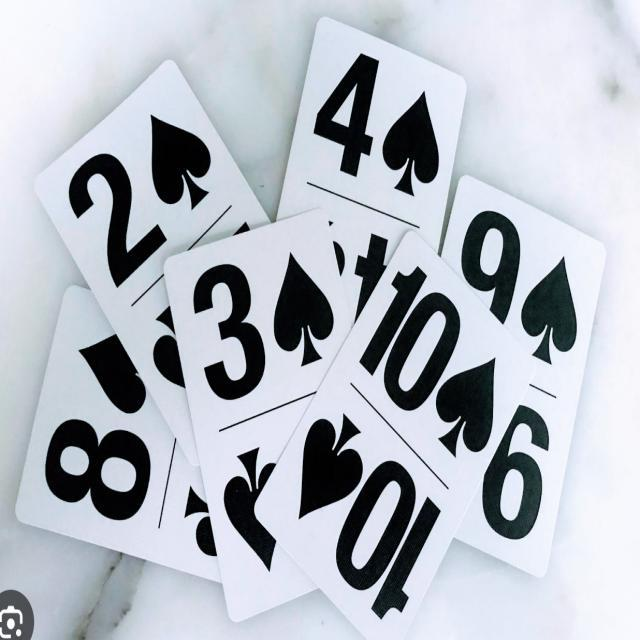Card-10: (253, 231, 534, 640)
Card-2: (32, 60, 269, 465)
Card-3: (164, 214, 350, 621)
Card-4: (276, 16, 465, 328)
Card-8: (16, 288, 222, 585)
Card-9: (441, 175, 606, 575)
